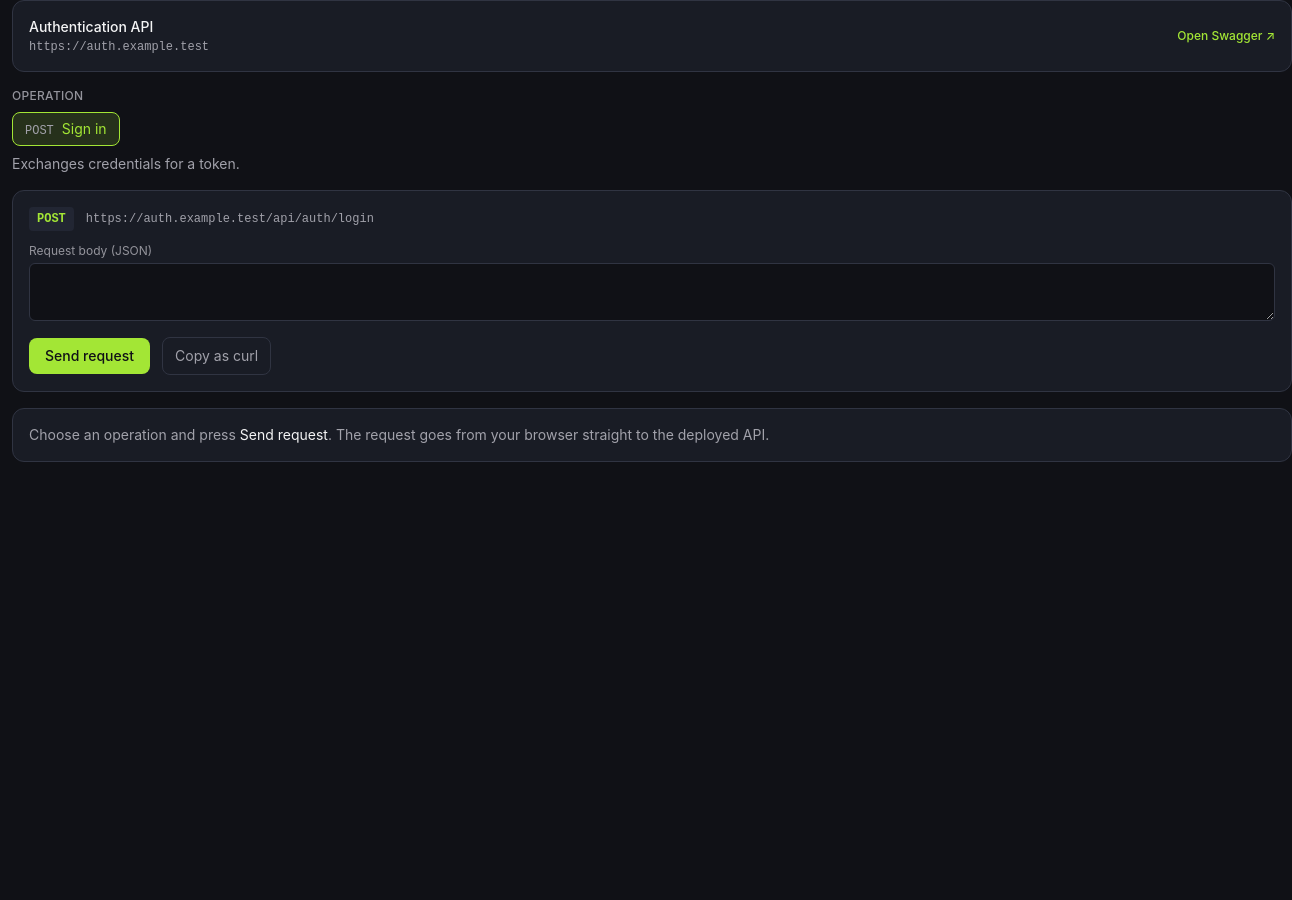
Test case: the shared session › never writes the token to storage
Step 1. Click the button "Send request" → (90, 356), box [29, 338, 150, 374]
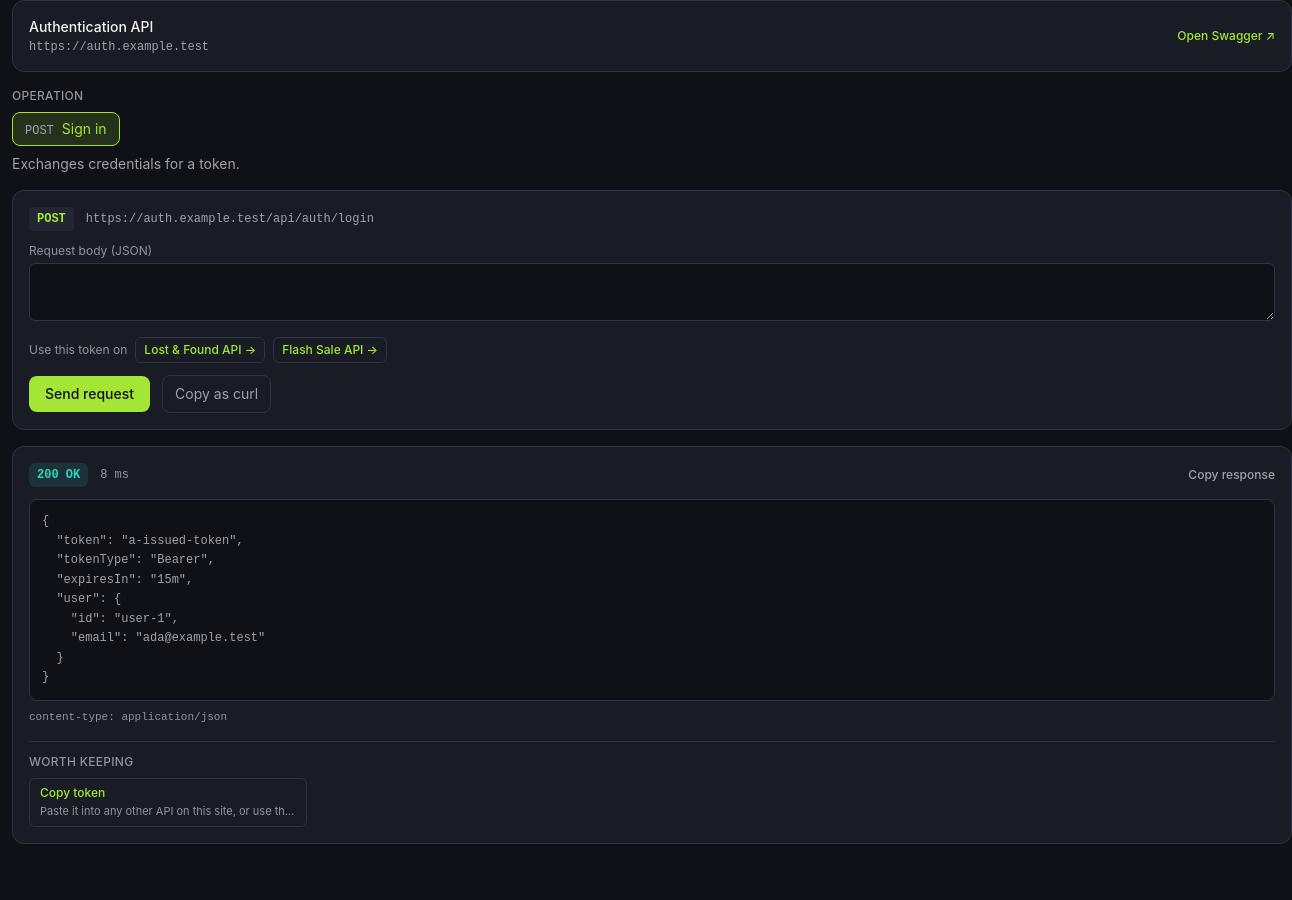
Result: the text "200 OK" is shown at [29, 463, 88, 487]
